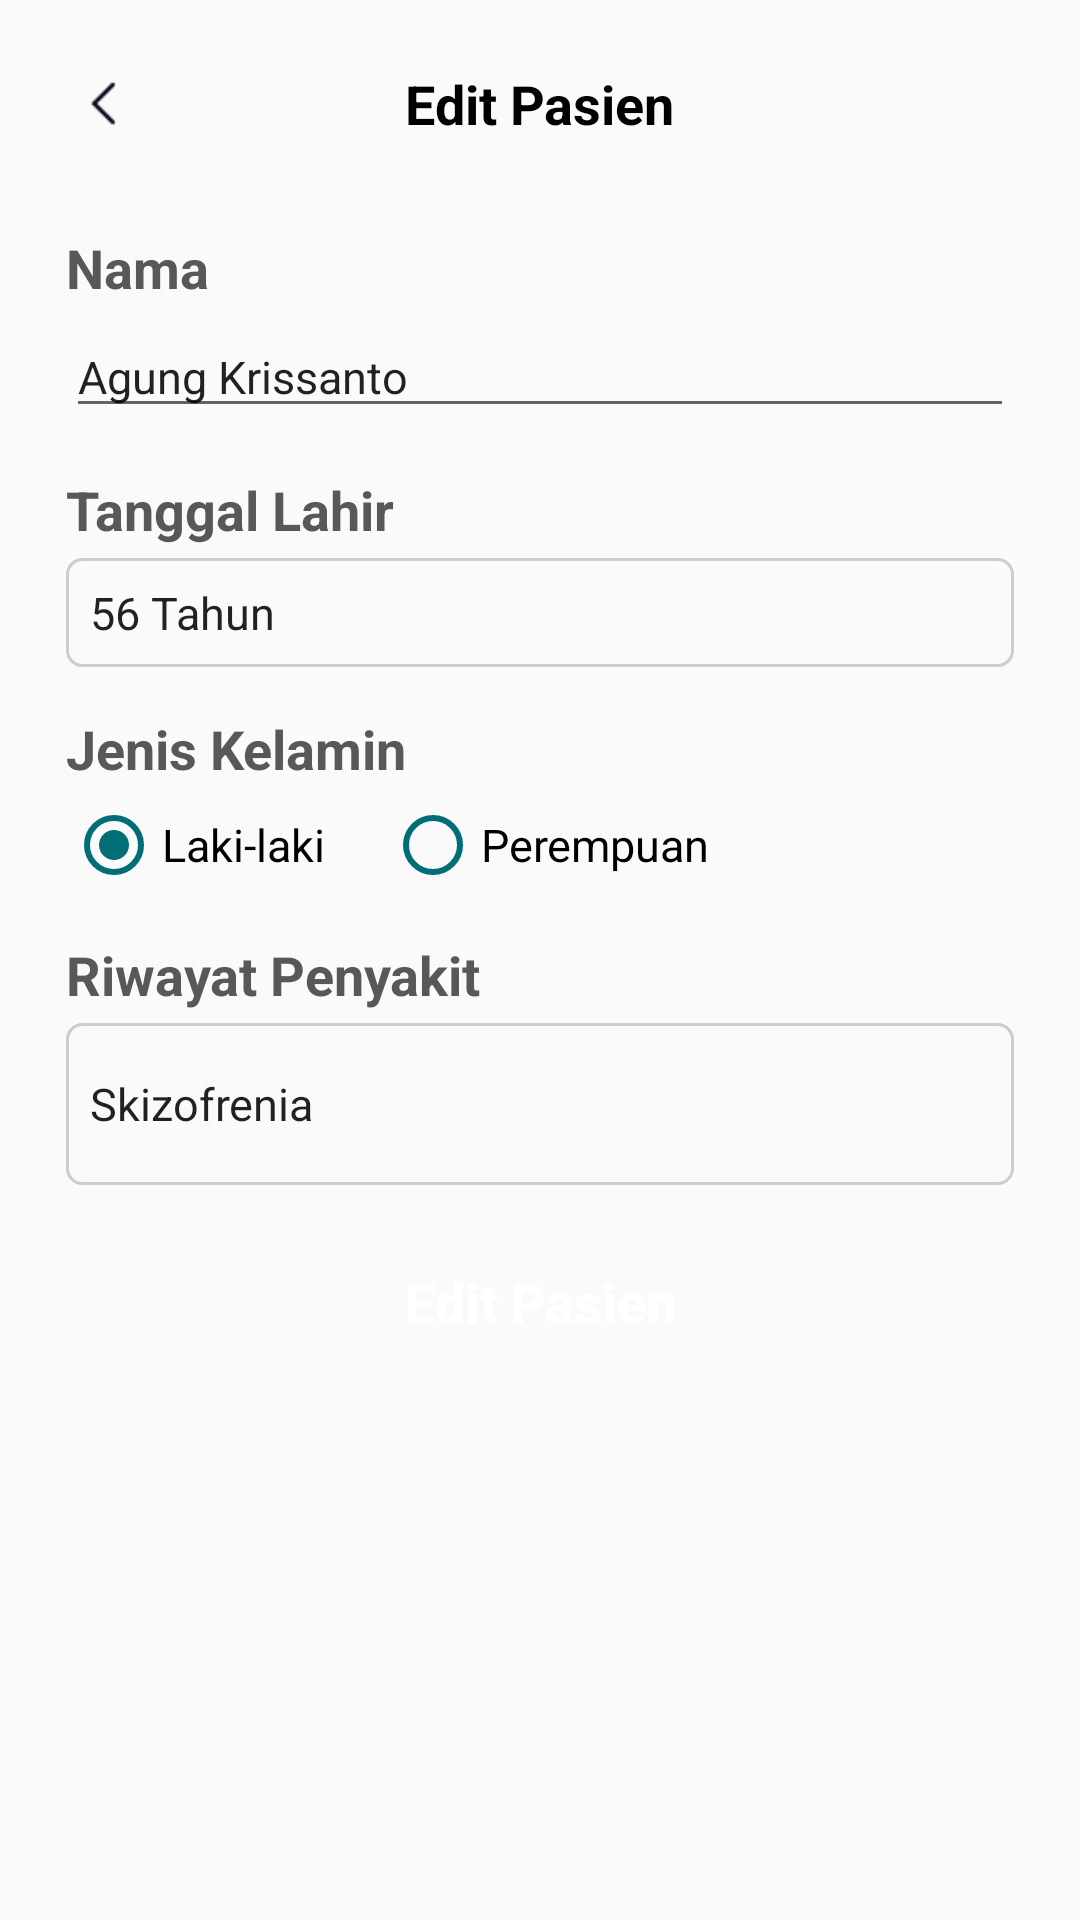

Icon bounding boxes for this 1080 x 1920 phone screenshot, format box=[x1, y1, x2, y2]:
back: box=[91, 82, 115, 125]
